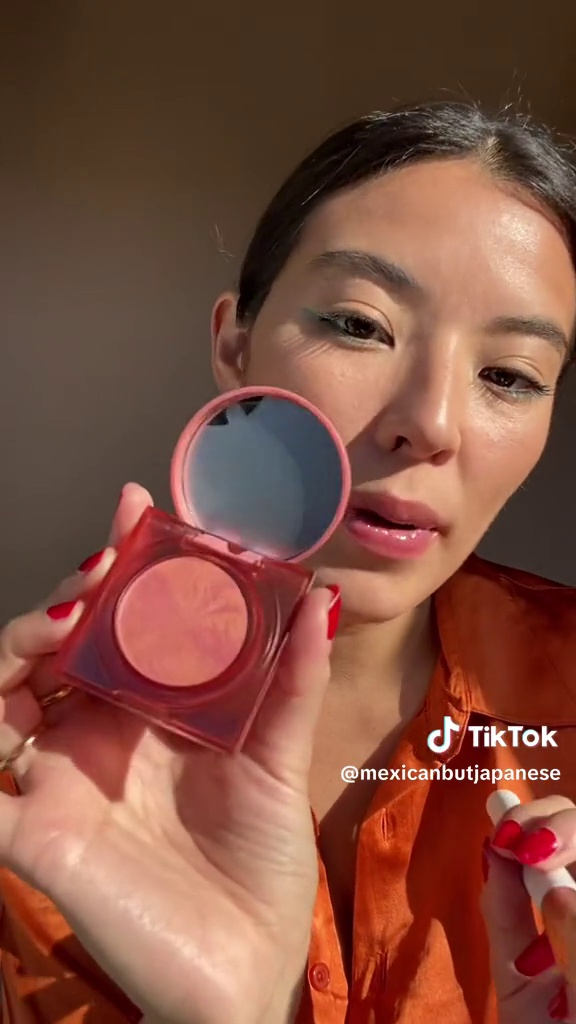train' :'yolo_data/train/images',: (44, 382, 347, 763)
